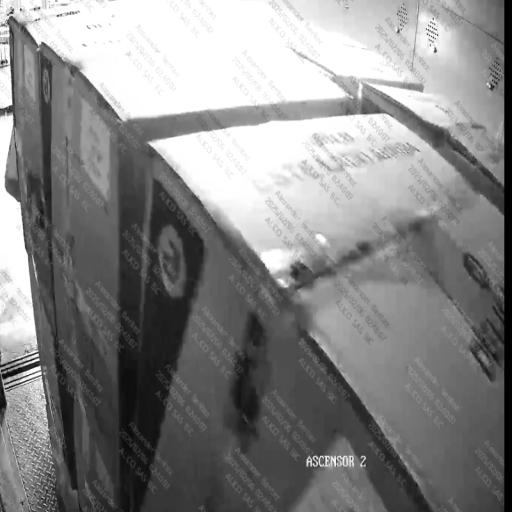Rollos sin amarrar: (45, 36, 344, 450)
